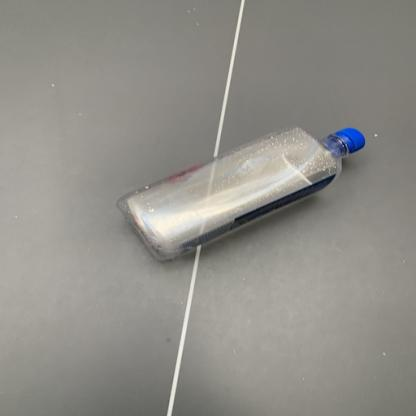trash: (112, 123, 367, 268)
